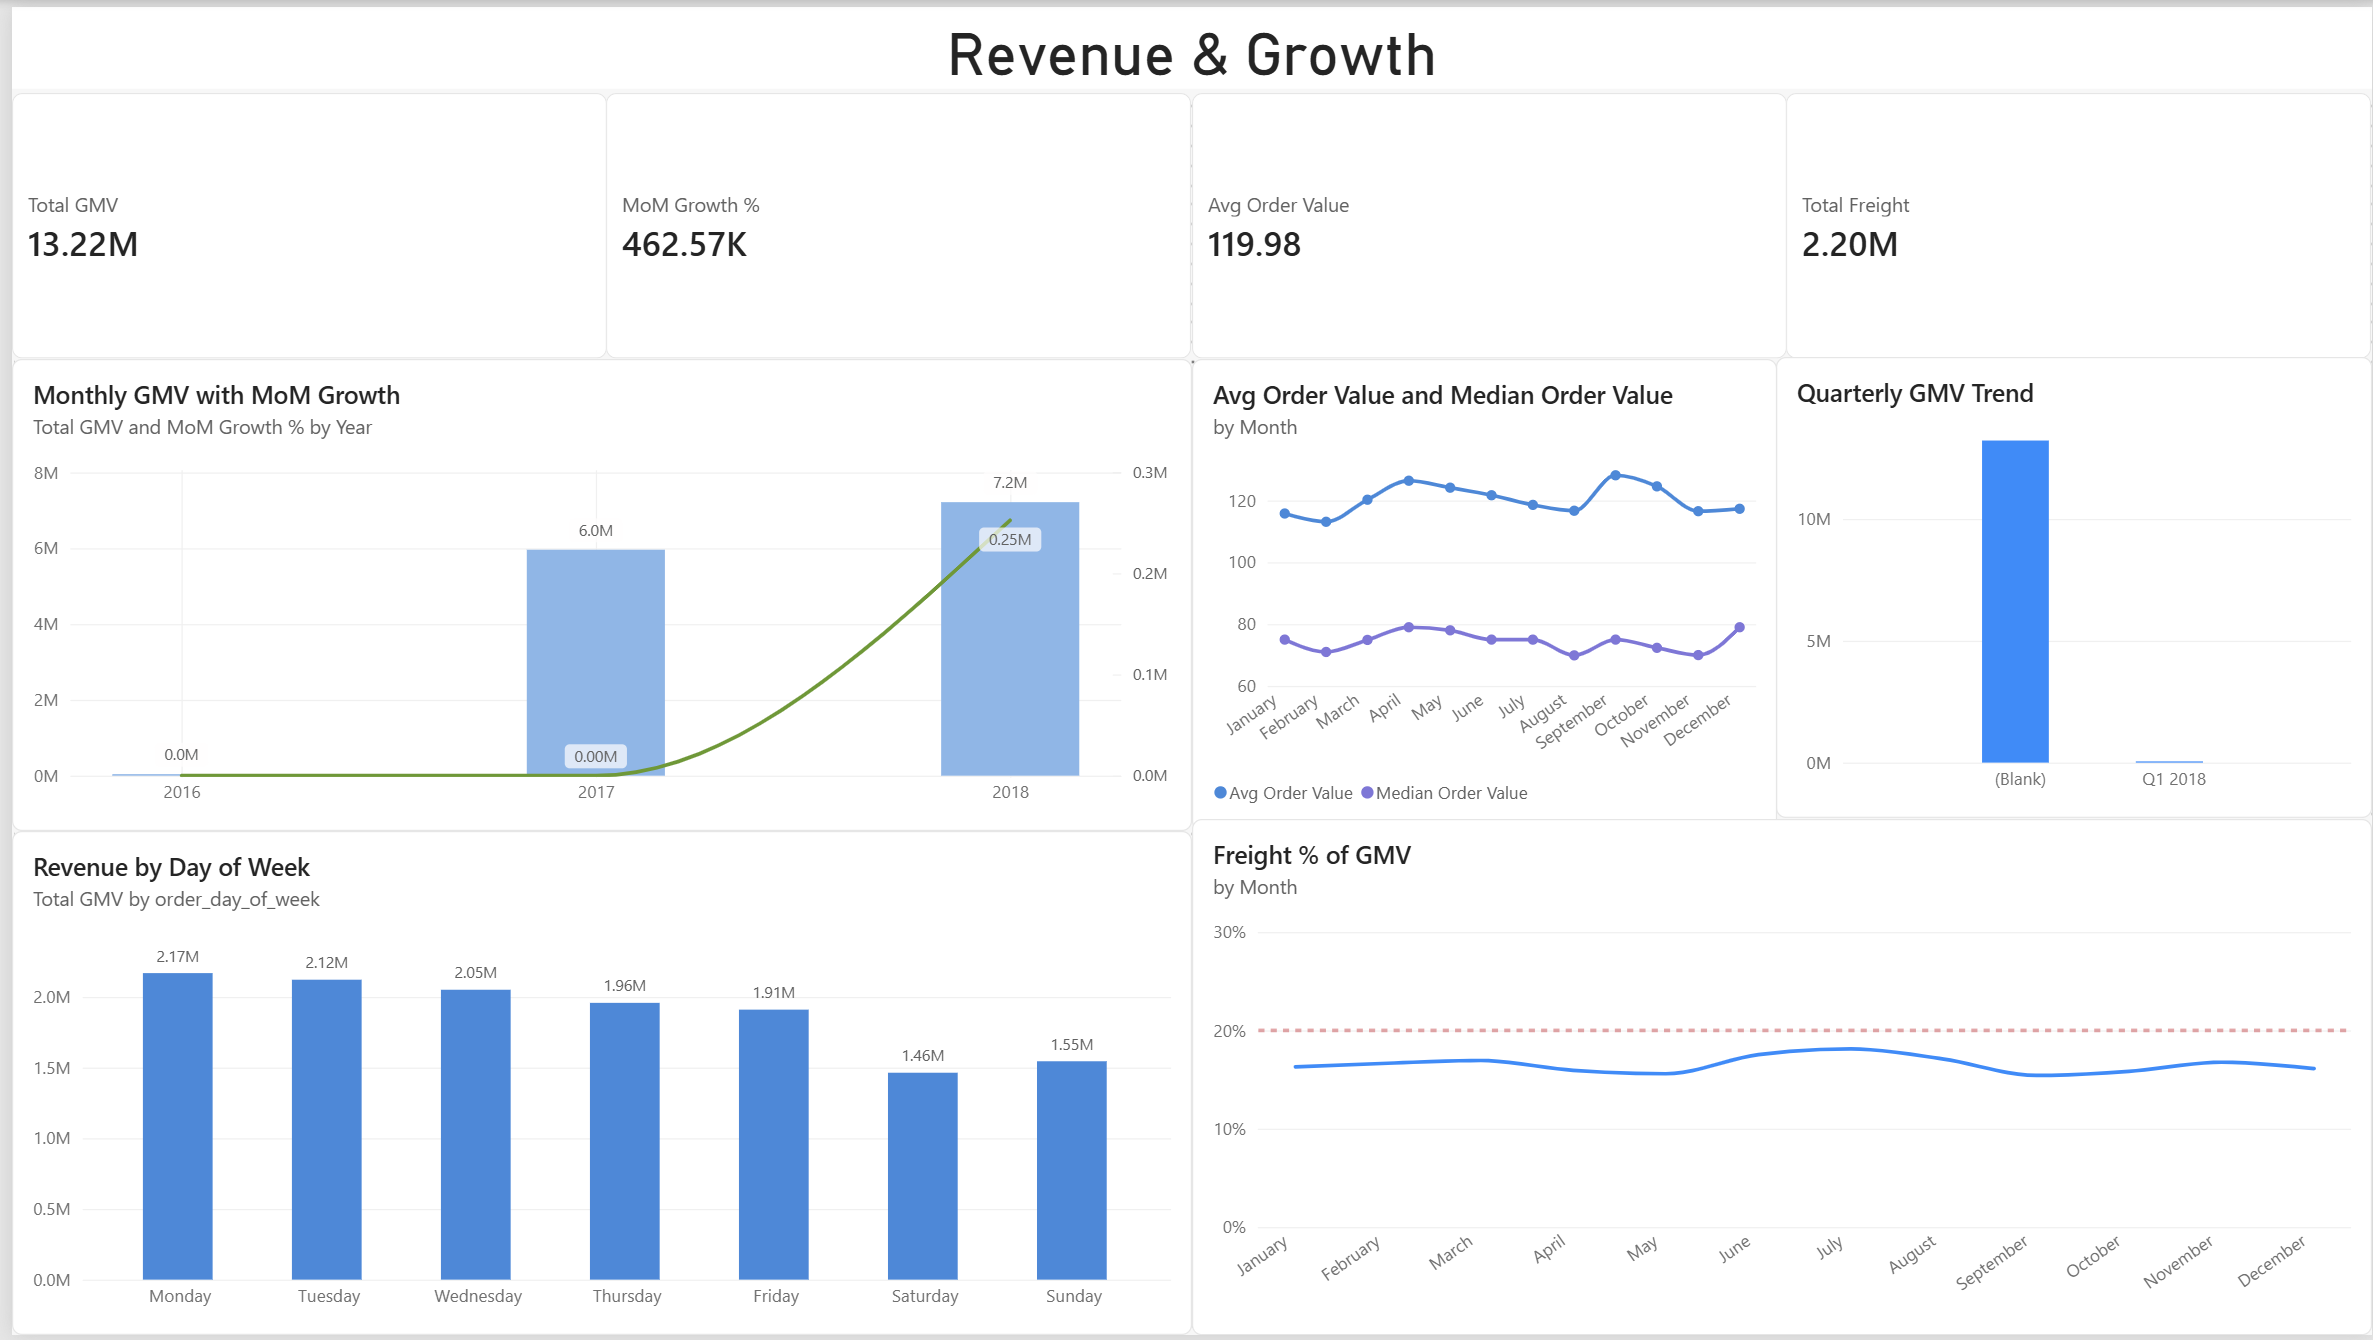

The page's visual inventory and layout, read from the dashboard file:
{"tool":"powerbi","page":{"name":"Revenue & Growth","canvas":[1920,1080],"ordinal":1},"visuals":[{"type":"textbox","title":"Revenue & Growth","box":[808.2,0,446,68],"z":0},{"type":"actionButton","title":"Overview","box":[0,0.5,121.2,71.2],"z":1000,"group":"g1"},{"type":"cardVisual","fields":{"Data":["delivered_orders.MoM Growth %"]},"box":[484,70,476,108],"z":1000},{"type":"cardVisual","fields":{"Data":["delivered_orders.Total GMV"]},"box":[0,70,484,108],"z":2000},{"type":"actionButton","title":"Overview","box":[129.7,0.5,113.8,71.2],"z":3000,"group":"g1"},{"type":"cardVisual","fields":{"Data":["delivered_orders.Total Freight"]},"box":[1444,70,476,108],"z":3000},{"type":"cardVisual","fields":{"Data":["delivered_orders.Avg Order Value"]},"box":[960,70,484,108],"z":4000},{"type":"actionButton","title":"Overview","box":[251.9,0.5,126.2,71.2],"z":5000,"group":"g1"},{"type":"lineStackedColumnComboChart","title":"Monthly GMV with MoM Growth","fields":{"Category":["delivered_orders.order_month_name.Variation.Date Hierarchy.Year","delivered_orders.order_month_name.Variation.Date Hierarchy.Quarter","delivered_orders.order_month_name.Variation.Date Hierarchy.Month","delivered_orders.order_month_name.Variation.Date Hierarchy.Day"],"Y":["delivered_orders.Total GMV"],"Y2":["delivered_orders.MoM Growth %"]},"box":[0,178,960,482],"z":5000},{"type":"clusteredColumnChart","title":"Quarterly GMV Trend","fields":{"Y":["delivered_orders.Total GMV"],"Category":["DateTable.Quarter Year"]},"box":[1444,178,482,482],"z":6000},{"type":"actionButton","title":"Overview","box":[386.6,0.5,116.2,71.2],"z":7000,"group":"g1"},{"type":"clusteredColumnChart","title":"Revenue by Day of Week","fields":{"Category":["delivered_orders.order_day_of_week"],"Y":["delivered_orders.Total GMV"]},"box":[0,660,960,422],"z":7000},{"type":"lineChart","title":" AOV Trend","fields":{"Y":["delivered_orders.Avg Order Value","delivered_orders.Median Order Value"],"Category":["delivered_orders.order_month_name.Variation.Date Hierarchy.Month"]},"box":[960,178,484,482],"z":8000},{"type":"actionButton","title":"Overview","box":[511.2,0.5,116.2,71.2],"z":9000,"group":"g1"},{"type":"lineChart","fields":{"Category":["delivered_orders.order_month.Variation.Date Hierarchy.Month"],"Y":["delivered_orders.Freight % of GMV"]},"box":[960,660,960,422],"z":9000},{"type":"slicer","fields":{"Values":["delivered_orders.order_approved_at.Variation.Date Hierarchy.Quarter"]},"box":[1444,0,478,68],"z":10000},{"type":"group","id":"g1","title":"Group 1","box":[0,0.5,627.5,71.2],"z":11000}]}

Visuals, with their boxes in screenshot pixels (x1, y1, x2, y2), scaled from the page's 1920x1080 canvas onto the 2373x1340 screenshot:
"Revenue & Growth" textbox: <box>999,0,1550,84</box>
"Overview" actionButton: <box>0,1,150,89</box>
cardVisual - delivered_orders.MoM Growth %: <box>598,87,1186,221</box>
cardVisual - delivered_orders.Total GMV: <box>0,87,598,221</box>
"Overview" actionButton: <box>160,1,301,89</box>
cardVisual - delivered_orders.Total Freight: <box>1785,87,2372,221</box>
cardVisual - delivered_orders.Avg Order Value: <box>1186,87,1785,221</box>
"Overview" actionButton: <box>311,1,467,89</box>
"Monthly GMV with MoM Growth" lineStackedColumnComboChart: <box>0,221,1186,819</box>
"Quarterly GMV Trend" clusteredColumnChart: <box>1785,221,2372,819</box>
"Overview" actionButton: <box>478,1,621,89</box>
"Revenue by Day of Week" clusteredColumnChart: <box>0,819,1186,1339</box>
" AOV Trend" lineChart: <box>1186,221,1785,819</box>
"Overview" actionButton: <box>632,1,775,89</box>
lineChart - delivered_orders.order_month.Variation.Date Hierarchy.Month x delivered_orders.Freight % of GMV: <box>1186,819,2372,1339</box>
slicer - delivered_orders.order_approved_at.Variation.Date Hierarchy.Quarter: <box>1785,0,2372,84</box>
"Group 1" group: <box>0,1,776,89</box>
